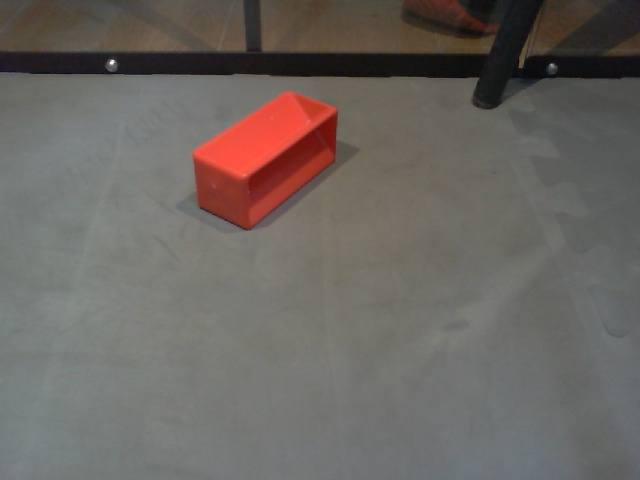RedSample: (190, 87, 339, 231)
